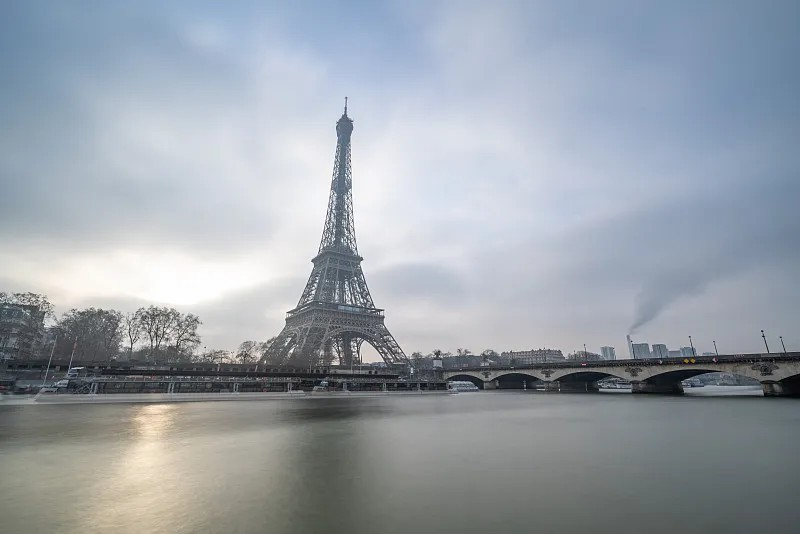Eiffel: (256, 96, 413, 370)
